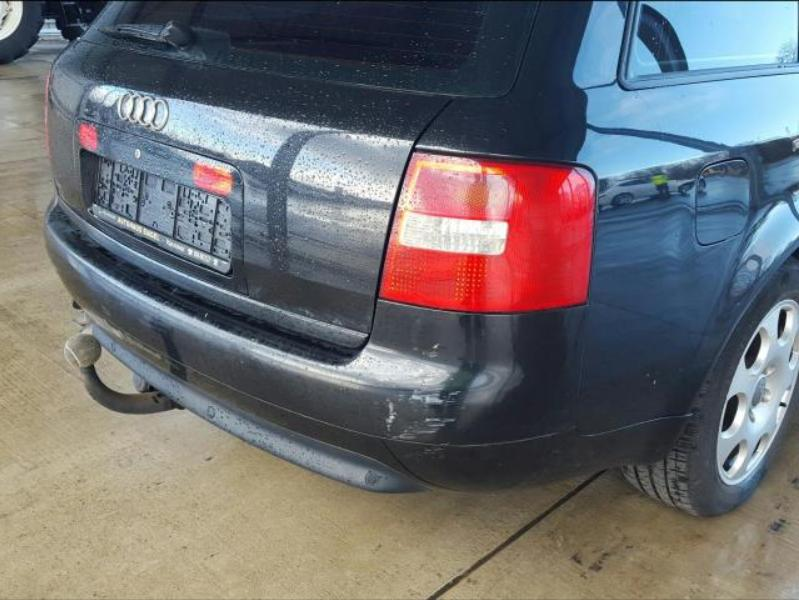Back-bumper: (43, 188, 728, 496)
Back-door: (581, 0, 798, 220)
Back-wheel: (618, 255, 798, 517)
Back-window: (628, 0, 799, 78)
Back-windshield: (83, 0, 545, 100)
License-plate: (86, 155, 235, 279)
Quarter-panel: (415, 74, 798, 339)
Tail-light: (380, 143, 604, 318)
Trunk: (49, 40, 454, 359)
